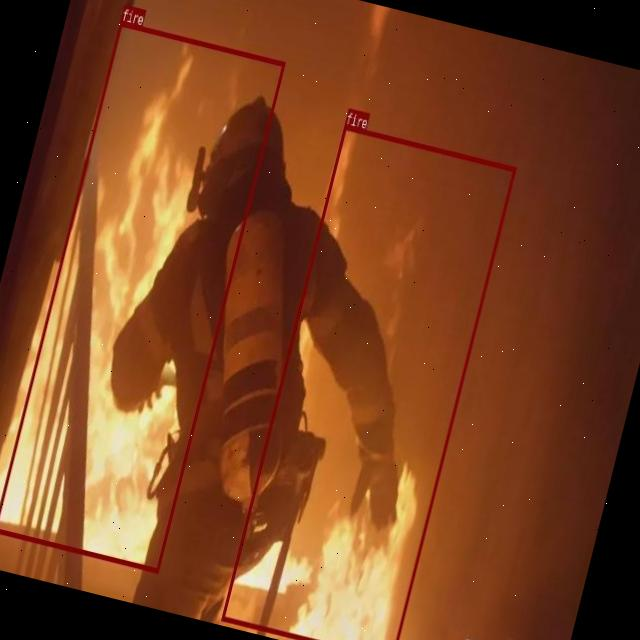fire: (0, 20, 284, 572), (221, 124, 516, 640)
